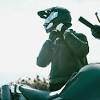with_helmet: (40, 5, 72, 24)
